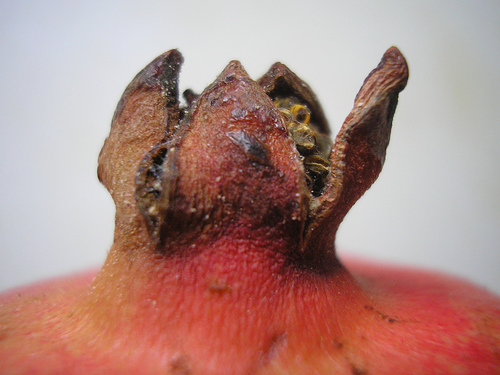pomogranate: (1, 46, 499, 374)
